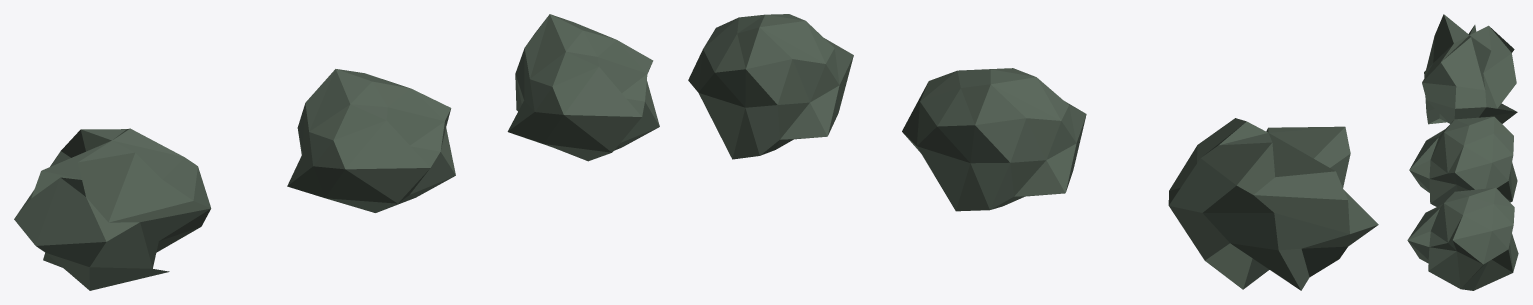
Rendered from bushes_group_v3.fbx.
3 renders of one model, left to right at view 1: azimuth 30°, elevation 25°; view 2: azimuth 150°, elevation 25°; view 3: azimuth 270°, elevation 25°, orthographic. The views are drawn at different scales.
Parts seen in each view (by area): view 1: dark green bushes v1, dark green bushes v2, dark green bushes v3; view 2: dark green bushes v1, dark green bushes v2, dark green bushes v3; view 3: dark green bushes v3, dark green bushes v1, dark green bushes v2.
Part boxes in pixels (x1,y1,x2,y2): dark green bushes v1: (14,128,211,290); dark green bushes v2: (287,69,455,212); dark green bushes v3: (507,14,659,161); dark green bushes v1: (1168,118,1378,290); dark green bushes v2: (902,68,1086,211); dark green bushes v3: (688,14,853,159); dark green bushes v3: (1407,187,1518,290); dark green bushes v1: (1422,14,1517,124); dark green bushes v2: (1409,116,1517,206).
Bounding box in the file's own units: 668 × 142 × 150.
1 material, 1 textured.
